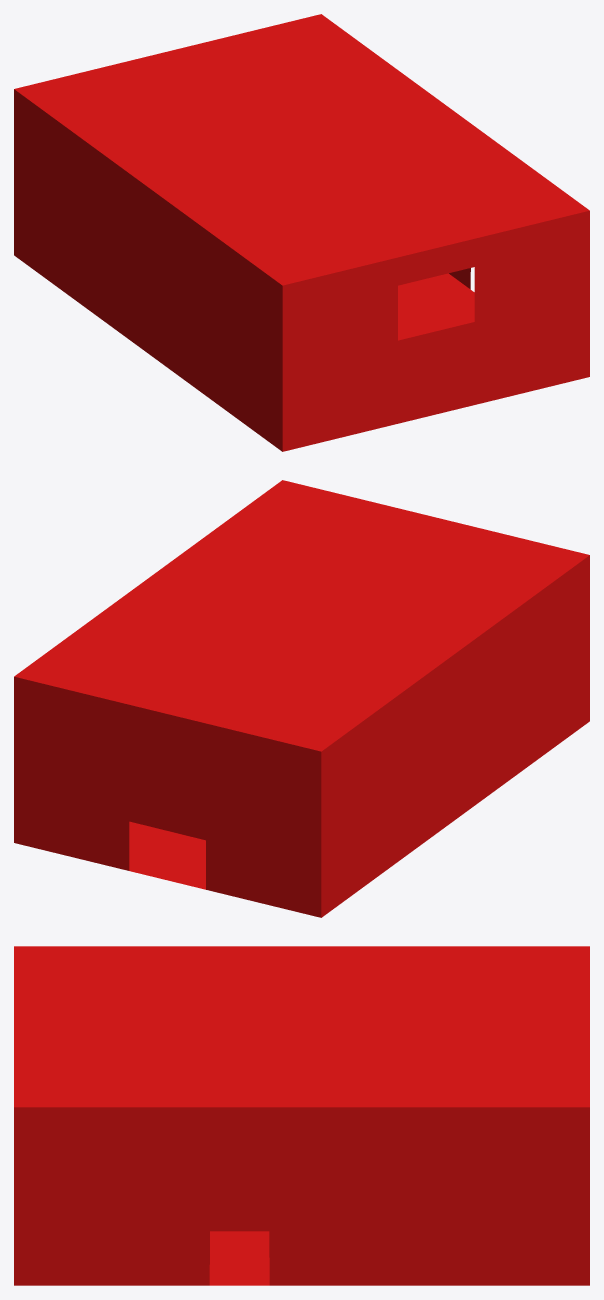
Rendered from large room.fbx.
The picture shows the model from 3 angles, top to bottom: view 1: azimuth 30°, elevation 25°; view 2: azimuth 150°, elevation 25°; view 3: azimuth 270°, elevation 25°; orthographic projection. The views are drawn at different scales.
Visible parts, largest first — view 1: pCube2; view 2: pCube2; view 3: pCube2.
Boxes of the visible parts, x1,y1,x2,y2 form: pCube2: [14, 14, 589, 451]; pCube2: [14, 480, 589, 917]; pCube2: [14, 946, 589, 1285].
Size of the model in its own units: 10.98 by 5.68 by 16.62.
